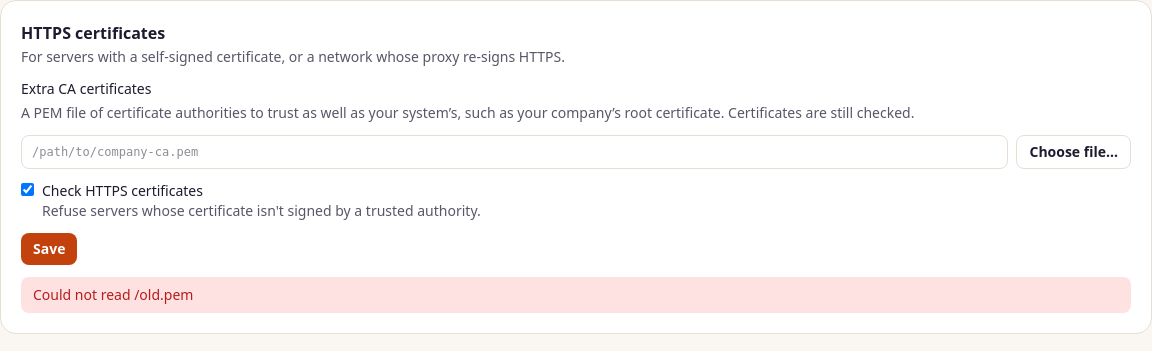
Test: TlsSettings › turns certificate checks off with a warning, and shows what the app refused
The image size is (1152, 351).
Expected: the text "Could not read /old.pem" is shown, [21,277,1131,313]
Click the checkbox labelled "Check HTTPS certificates" at (28, 190), box [21,183,34,196]
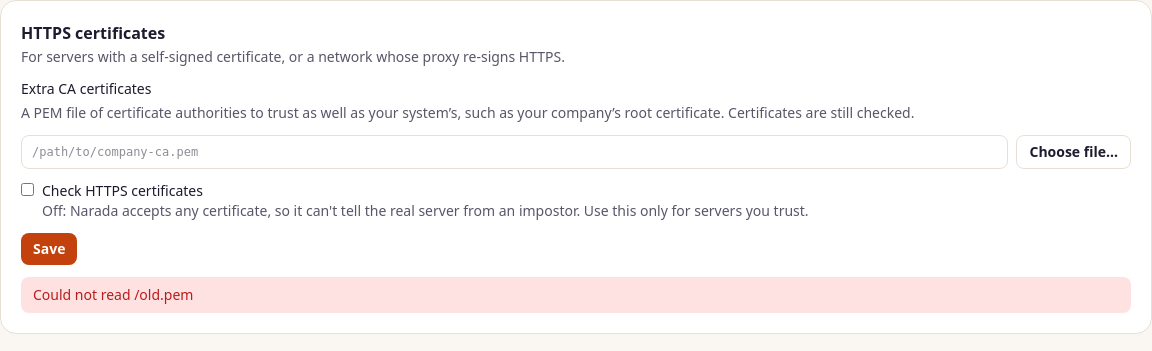
Result: the text "accepts any certificate" is shown at [42,201,809,220]
Type "/x.pem" into the field named "Extra CA certificates file" at (515, 152), box [21,135,1008,169]
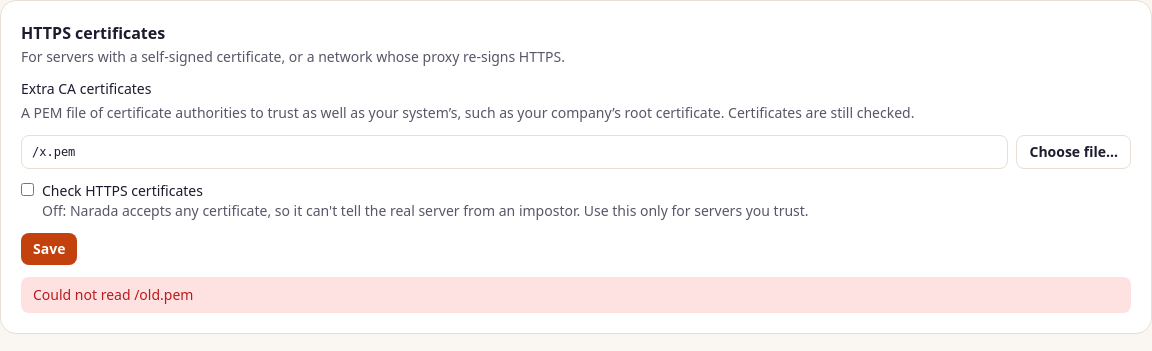
Click the button "Save" at (49, 249), box [21,233,77,265]
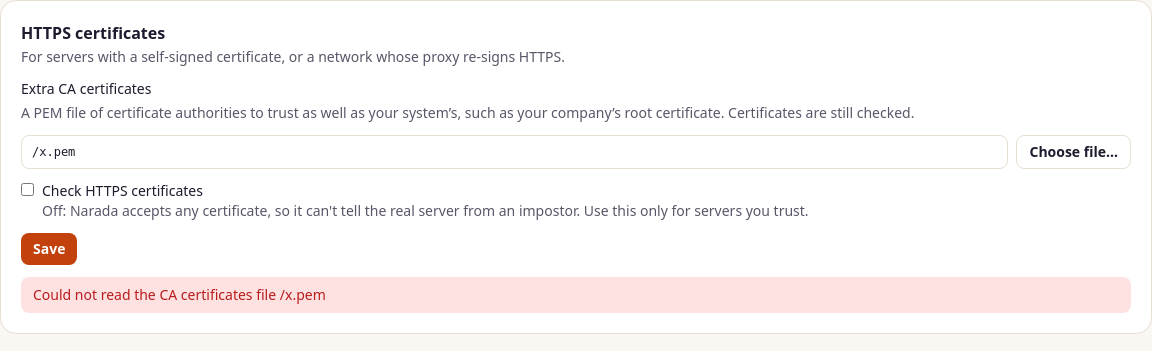
Result: the text "Could not read the CA certificates file /x.pem" is shown at [21,277,1131,313]
